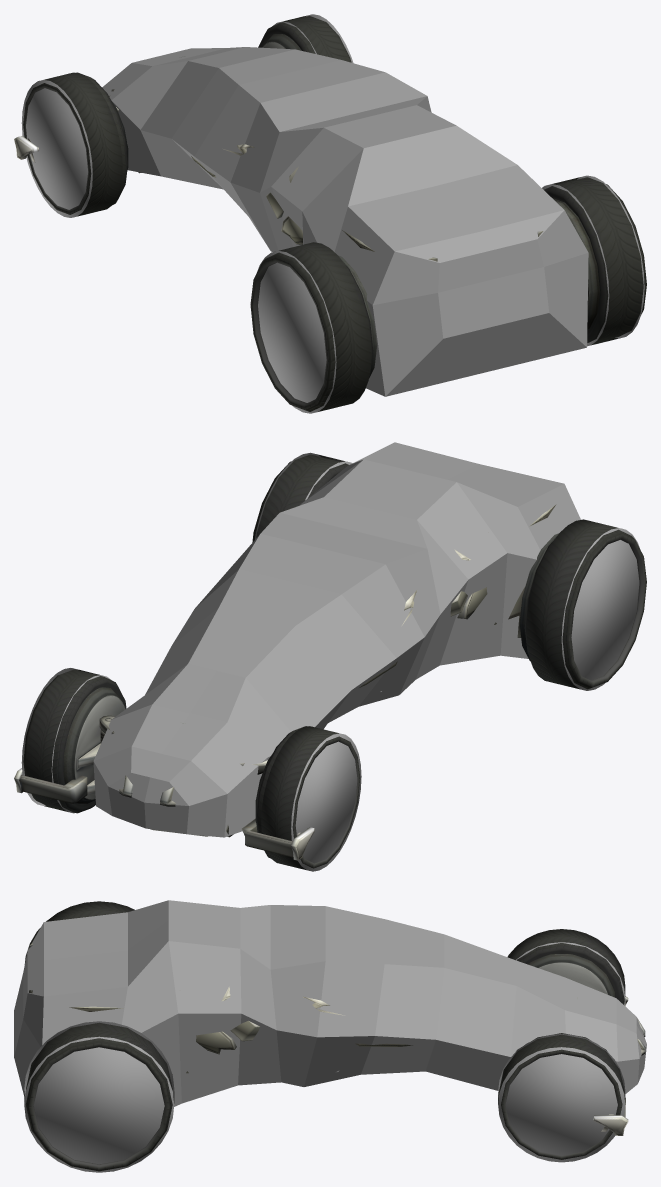
File: car2.obj
3 renders of one model, top to bottom at view 1: azimuth 30°, elevation 25°; view 2: azimuth 150°, elevation 25°; view 3: azimuth 270°, elevation 25°, orthographic. The views are drawn at different scales.
Parts seen in each view (by area): view 1: Car_Con_Box_Cube.014, Back_Wheel_Force_1_L_Back_Wheel_Force, Front_Wheel_Force_1_L_Front_Wheel_Force, Back_Wheel_Mesh_1_R_Cube.003, Back_Wheel_Mesh_1_L_Cube.002, Front_Steering_Mesh_2_R_Cube.004, Front_Wheel_Mesh_2_L_Cube.009, Back_Suspension_R_Cube.001, Car_Mesh_Cube.012, Back_Wheel_Force_1_R_Back_Wheel_Force.001; view 2: Car_Con_Box_Cube.014, Back_Wheel_Force_1_L_Back_Wheel_Force, Front_Wheel_Force_1_L_Front_Wheel_Force, Front_Steering_Mesh_2_R_Cube.004, Front_Wheel_Mesh_1_R_Cube.005, Back_Wheel_Mesh_1_L_Cube.002, Back_Wheel_Mesh_1_R_Cube.003, Car_Mesh_Cube.012, Front_Wheel_Mesh_2_L_Cube.009, Front_Steering_Mesh_1_L_Cube.010, Front_Wheel_Force_1_R_Front_Wheel_Force.001, Back_Suspension_L_Cube.007; view 3: Car_Con_Box_Cube.014, Back_Wheel_Force_1_R_Back_Wheel_Force.001, Front_Wheel_Force_1_R_Front_Wheel_Force.001, Back_Wheel_Mesh_1_R_Cube.003, Front_Steering_Mesh_2_R_Cube.004, Car_Mesh_Cube.012, Front_Wheel_Force_1_L_Front_Wheel_Force, Front_Steering_Mesh_1_L_Cube.010, Front_Wheel_Mesh_2_L_Cube.009, Back_Wheel_Force_1_L_Back_Wheel_Force, Front_Wheel_Mesh_1_R_Cube.005.
Part boxes in pixels (x1,y1,x2,y2): Car_Con_Box_Cube.014: (102,47,588,396); Back_Wheel_Force_1_L_Back_Wheel_Force: (257,242,371,413); Front_Wheel_Force_1_L_Front_Wheel_Force: (21,72,122,217); Back_Wheel_Mesh_1_R_Cube.003: (544,177,646,342); Back_Wheel_Mesh_1_L_Cube.002: (250,252,373,411); Front_Steering_Mesh_2_R_Cube.004: (258,16,351,62); Front_Wheel_Mesh_2_L_Cube.009: (23,72,127,214); Back_Suspension_R_Cube.001: (552,198,599,329); Car_Mesh_Cube.012: (109,56,543,261); Back_Wheel_Force_1_R_Back_Wheel_Force.001: (542,175,644,346); Car_Con_Box_Cube.014: (93,442,580,837); Back_Wheel_Force_1_L_Back_Wheel_Force: (526,519,640,690); Front_Wheel_Force_1_L_Front_Wheel_Force: (261,726,361,871); Front_Steering_Mesh_2_R_Cube.004: (23,669,126,813); Front_Wheel_Mesh_1_R_Cube.005: (14,687,125,803); Back_Wheel_Mesh_1_L_Cube.002: (524,529,646,689); Back_Wheel_Mesh_1_R_Cube.003: (252,454,348,542); Car_Mesh_Cube.012: (95,504,556,837); Front_Wheel_Mesh_2_L_Cube.009: (255,726,360,868); Front_Steering_Mesh_1_L_Cube.010: (242,755,314,860); Front_Wheel_Force_1_R_Front_Wheel_Force.001: (21,668,110,813); Back_Suspension_L_Cube.007: (519,533,558,660); Car_Con_Box_Cube.014: (14,900,646,1106); Back_Wheel_Force_1_R_Back_Wheel_Force.001: (24,1021,174,1172); Front_Wheel_Force_1_R_Front_Wheel_Force.001: (498,1034,625,1162); Back_Wheel_Mesh_1_R_Cube.003: (25,1022,172,1171); Front_Steering_Mesh_2_R_Cube.004: (499,1033,624,1159); Car_Mesh_Cube.012: (29,943,645,1074); Front_Wheel_Force_1_L_Front_Wheel_Force: (507,929,625,1005); Front_Steering_Mesh_1_L_Cube.010: (528,954,628,1006); Front_Wheel_Mesh_2_L_Cube.009: (517,943,624,1004); Back_Wheel_Force_1_L_Back_Wheel_Force: (24,901,134,964); Front_Wheel_Mesh_1_R_Cube.005: (593,1097,628,1135).
Size of the model in its own units: 3.65 by 2.24 by 6.98.
